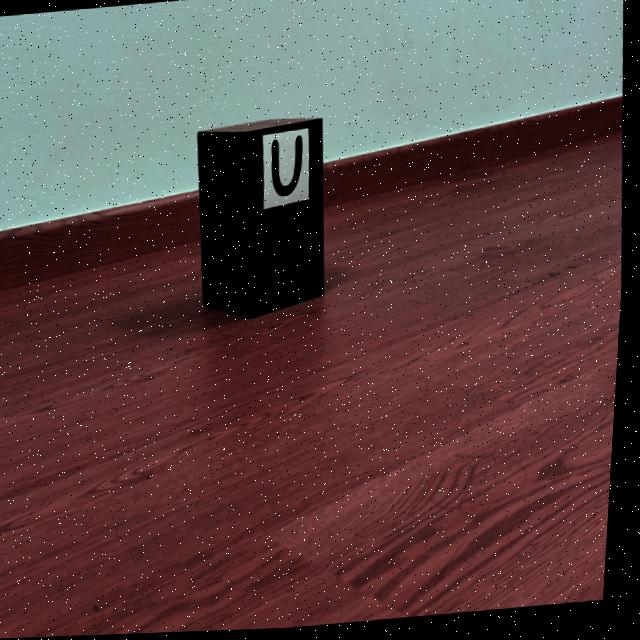U: (274, 138, 304, 199)
